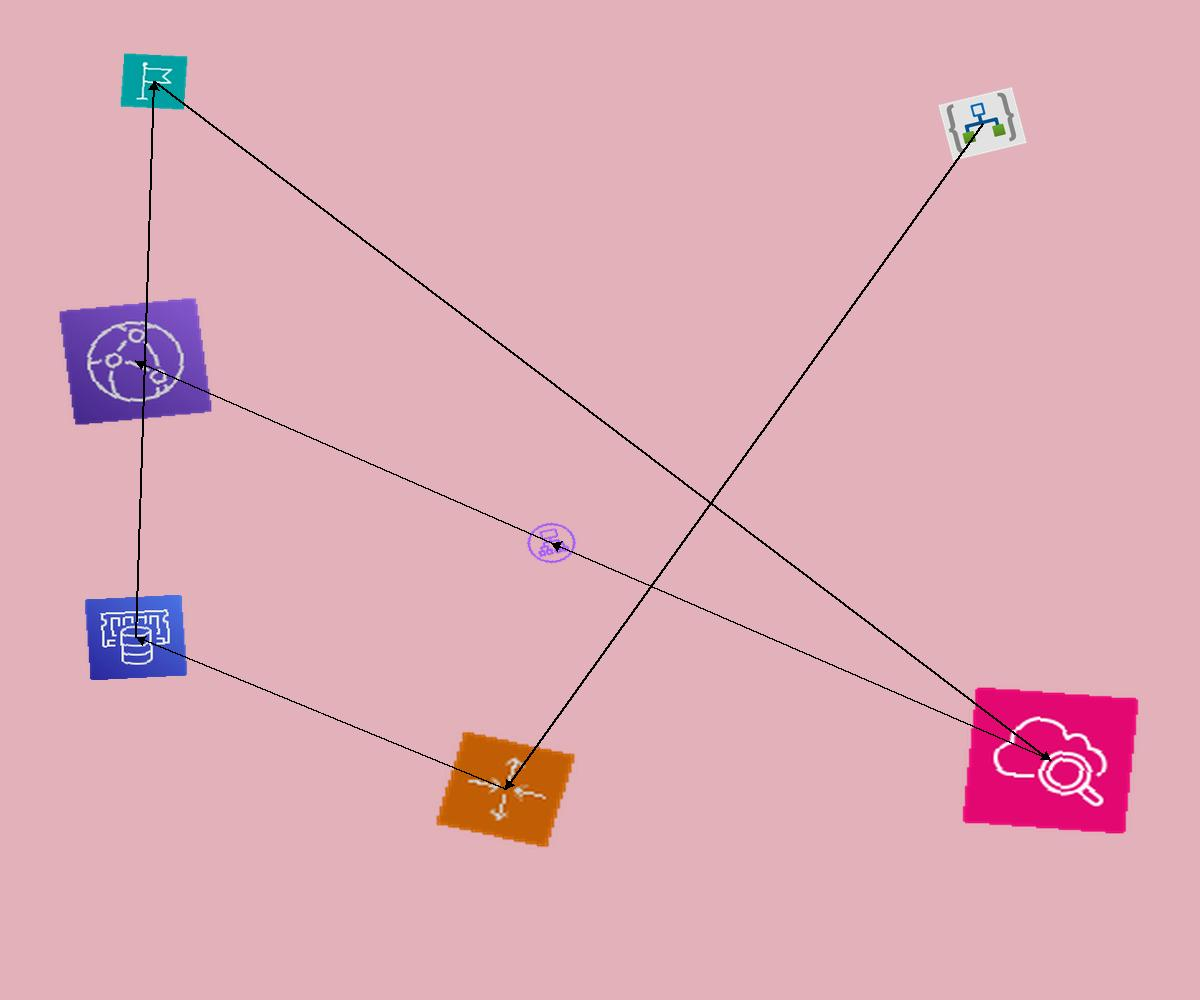AWS-CloudFront: (58, 297, 213, 426)
AWS-CloudWatch: (961, 686, 1140, 835)
AWS-ElastiCache: (84, 594, 188, 681)
AWS-Region: (120, 53, 188, 110)
AWS-Res_Elastic-Load-Balancing_Application-Load-Balancer: (519, 516, 584, 570)
AWS-Scaling-group: (434, 730, 577, 849)
Azure_integration-204-Logic-Apps: (938, 87, 1027, 161)
